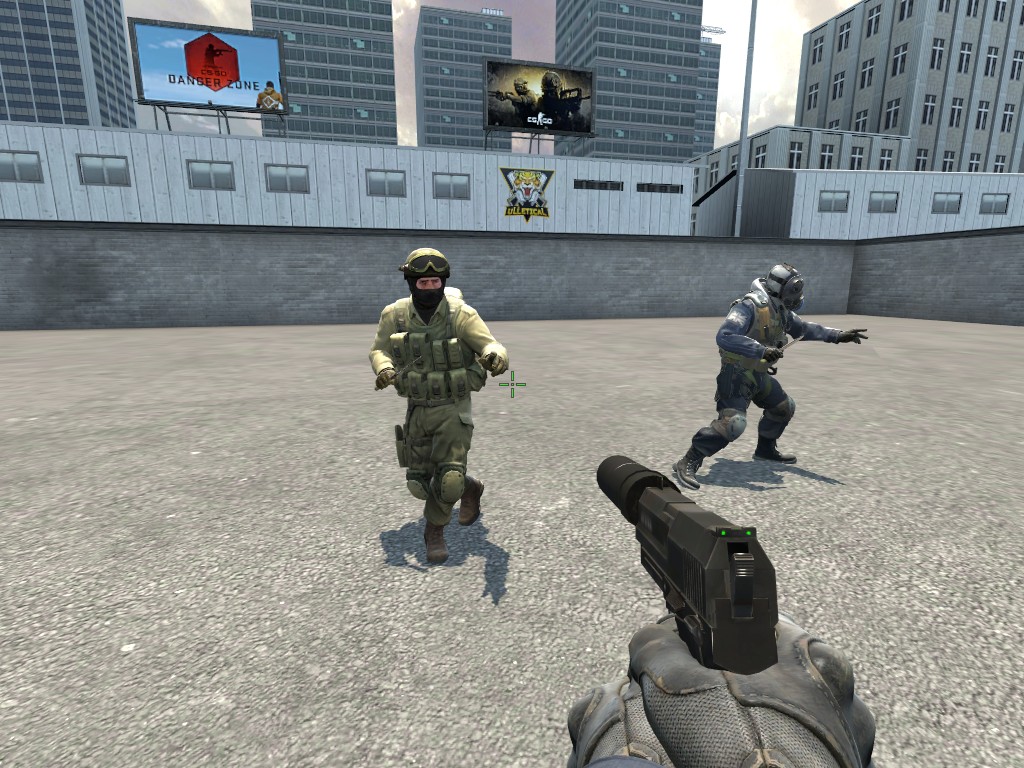ct head: (395, 241, 454, 309), (759, 258, 816, 320)
